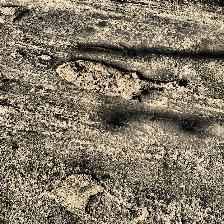pothole: (54, 57, 188, 103), (54, 172, 106, 220), (88, 44, 138, 58), (0, 4, 20, 16), (37, 52, 53, 60)
